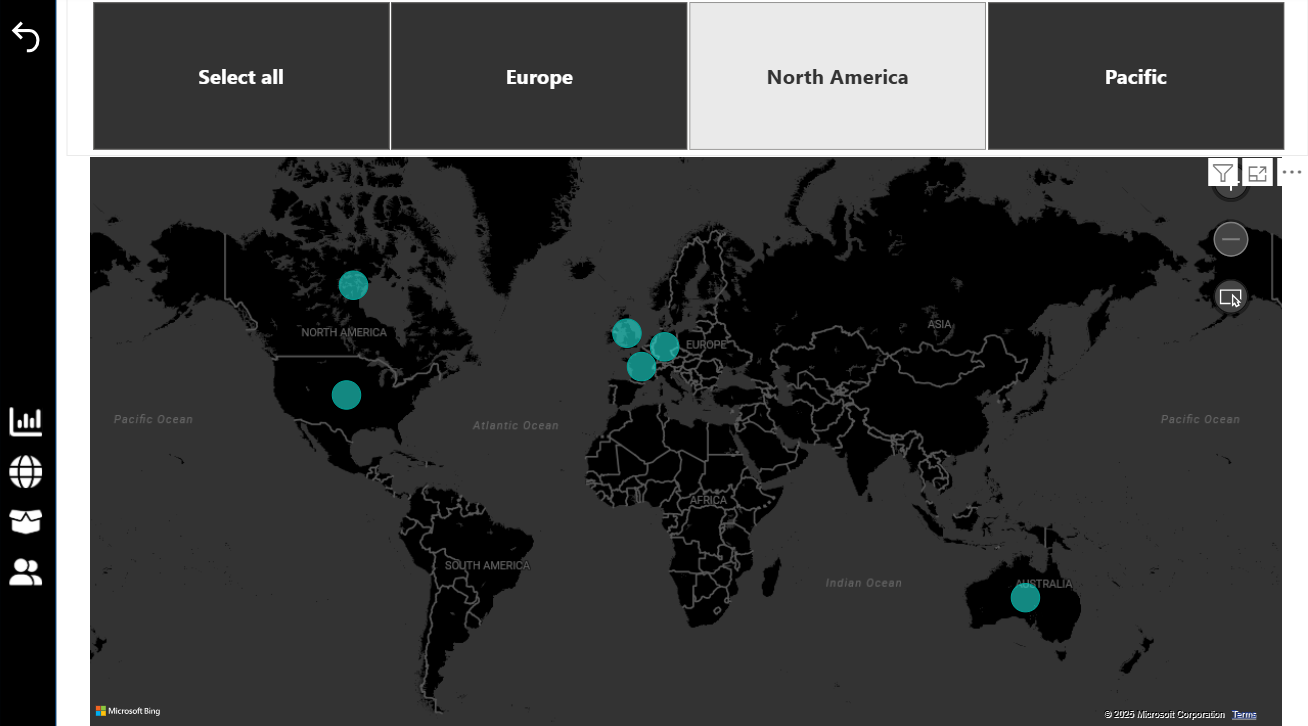

The page's visual inventory and layout, read from the dashboard file:
{"tool":"powerbi","page":{"name":"Map","canvas":[1280,720],"ordinal":1},"visuals":[{"type":"shape","box":[0,0,56.3,720.2],"z":0},{"type":"map","fields":{"Category":["Territory Lookup.Country"]},"box":[84.3,154.3,1175.7,565.7],"z":1000},{"type":"slicer","fields":{"Values":["Territory Lookup.Continent"]},"box":[65.7,0,1215,158],"z":2000},{"type":"actionButton","box":[6.1,20.8,100.3,40.4],"z":3000},{"type":"actionButton","box":[6.1,397.4,56.3,40.4],"z":4000},{"type":"actionButton","box":[6.1,495.2,56.3,40.4],"z":5000},{"type":"actionButton","box":[6.1,446.3,56.3,40.4],"z":6000},{"type":"actionButton","box":[6.1,544.2,56.3,40.4],"z":7000}]}

Visuals, with their boxes on the page's 1280x720 design canvas (x1, y1, x2, y2). These are canvas units, not pixel positions in the 1308x726 screenshot, which may show the page scaled, cropped or inside an application window:
shape: (0, 0, 56, 720)
map - Territory Lookup.Country: (84, 154, 1260, 720)
slicer - Territory Lookup.Continent: (66, 0, 1281, 158)
actionButton: (6, 21, 106, 61)
actionButton: (6, 397, 62, 438)
actionButton: (6, 495, 62, 536)
actionButton: (6, 446, 62, 487)
actionButton: (6, 544, 62, 585)
